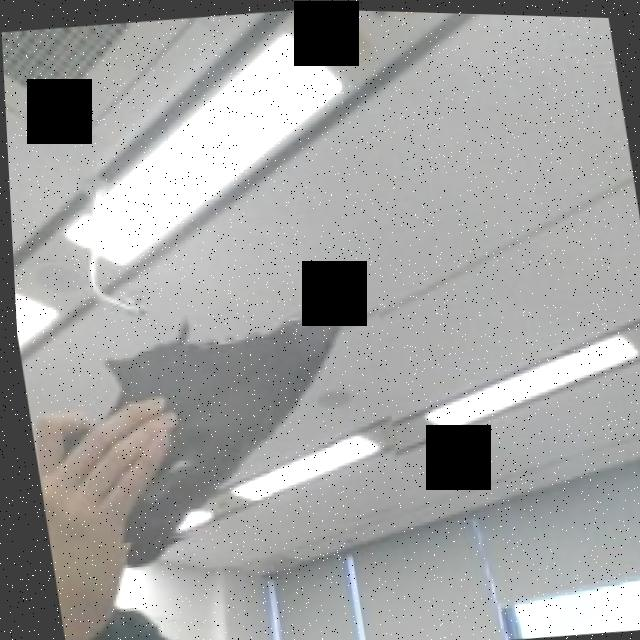shoe: (10, 253, 409, 557)
